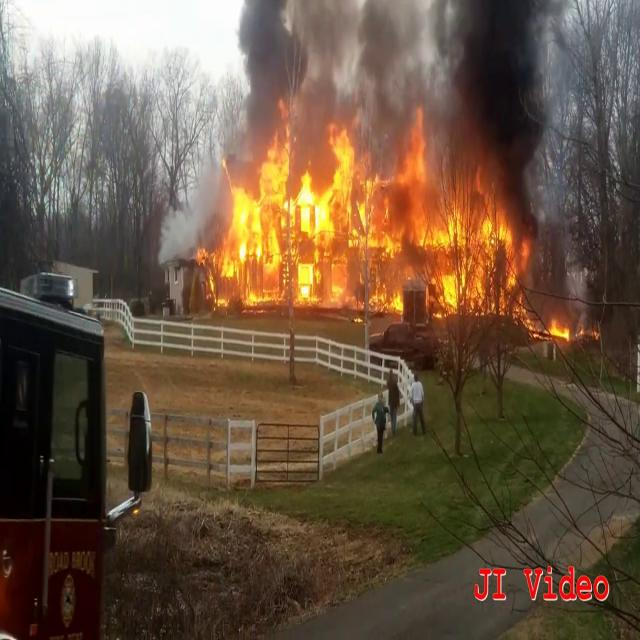Fire: (201, 115, 527, 320), (542, 311, 584, 346)
Smoke: (216, 0, 438, 159), (431, 0, 581, 203)
